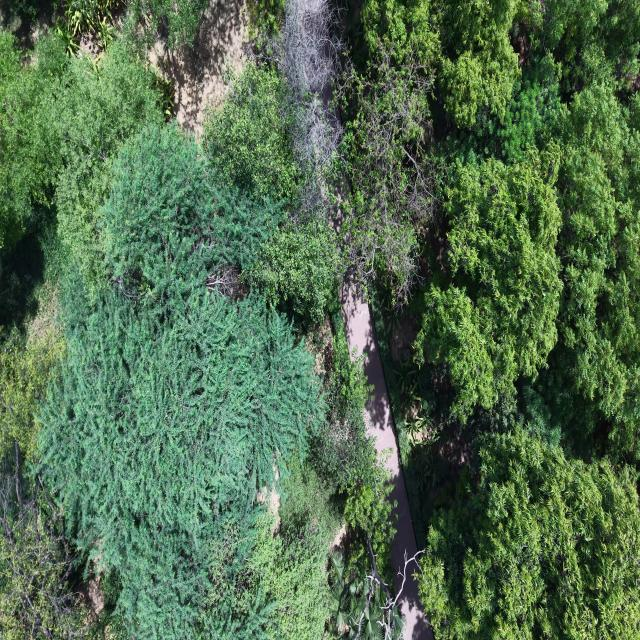DRY_AREA: (341, 286, 417, 592), (341, 287, 417, 590), (341, 287, 417, 589), (150, 0, 247, 135)
VEGETATION_TREE: (0, 0, 639, 639), (0, 33, 392, 638), (342, 0, 639, 638), (40, 126, 323, 637), (362, 3, 638, 459), (0, 30, 163, 638), (41, 285, 321, 637), (345, 0, 519, 305), (421, 429, 639, 638), (0, 32, 163, 285), (416, 146, 561, 420), (543, 56, 639, 463), (202, 62, 339, 322), (101, 124, 285, 301), (0, 286, 84, 639), (55, 41, 164, 286), (342, 49, 433, 306), (254, 0, 343, 221), (0, 447, 86, 639), (248, 458, 339, 638), (0, 31, 68, 248), (202, 62, 303, 203), (420, 0, 524, 128), (0, 0, 210, 56), (0, 286, 65, 461), (310, 331, 377, 493), (251, 220, 337, 322), (57, 0, 209, 54), (330, 553, 406, 638), (344, 464, 394, 567), (128, 0, 210, 48), (57, 0, 121, 54), (247, 0, 286, 45)
